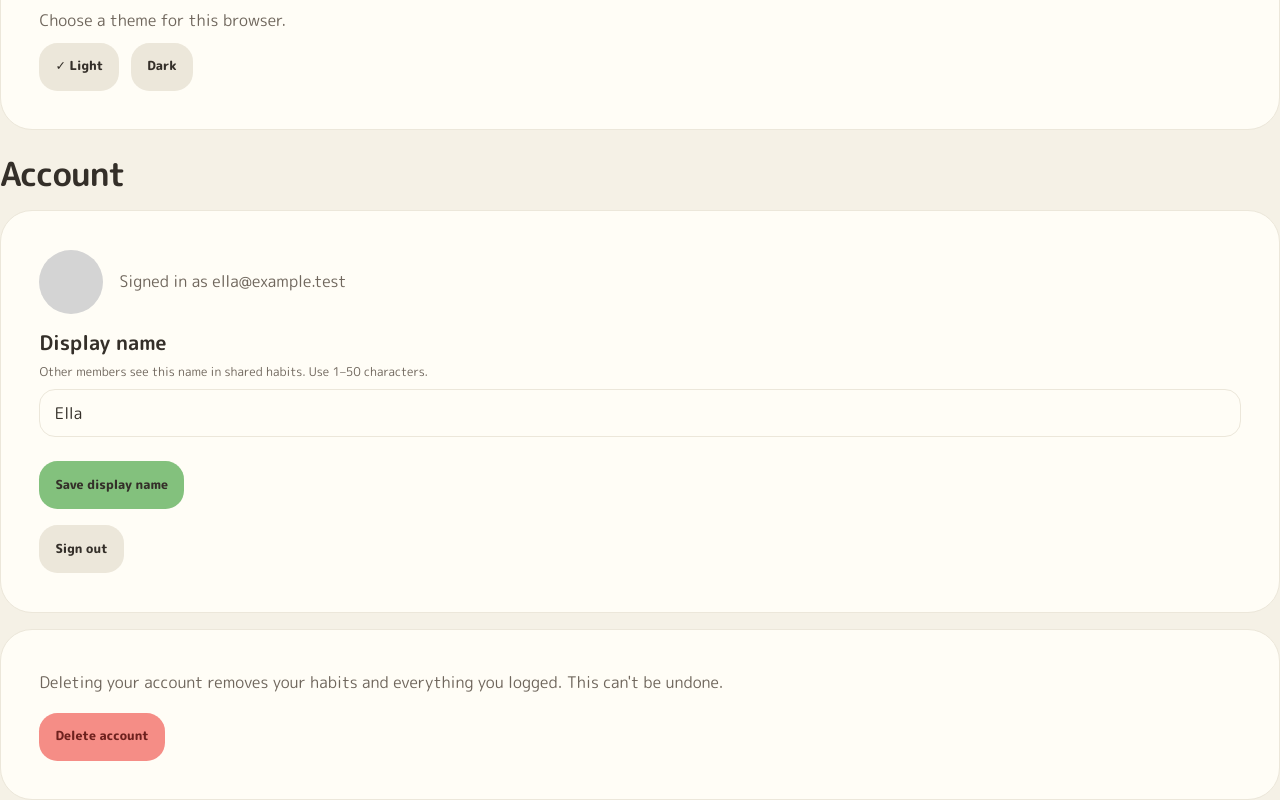
Test: Settings display name (#259) › rejects invalid name  without a request
This screenshot has width=1280, height=800.
(page scrolled)
Clear the field labelled "Display name" at (640, 413), box [39,389,1241,437]
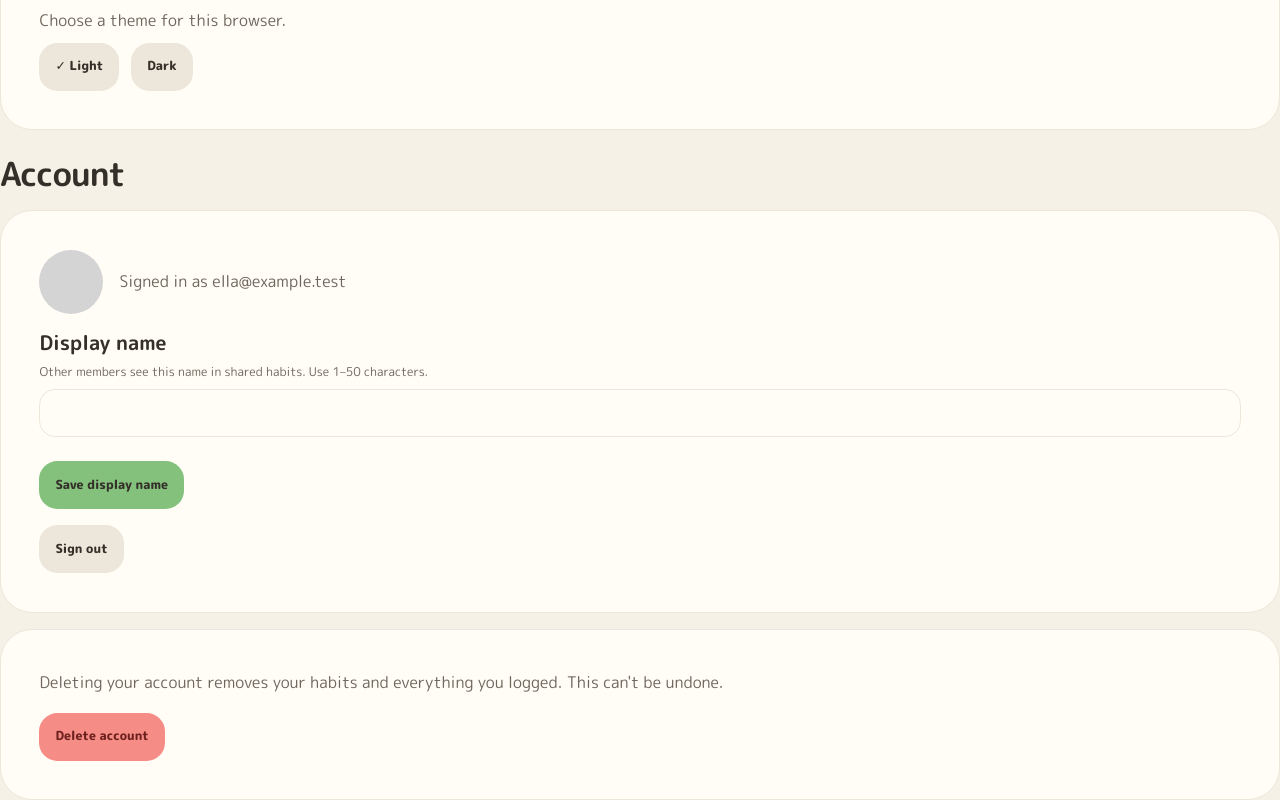
Click the button "Save display name" at (112, 485), box [39,461,184,509]
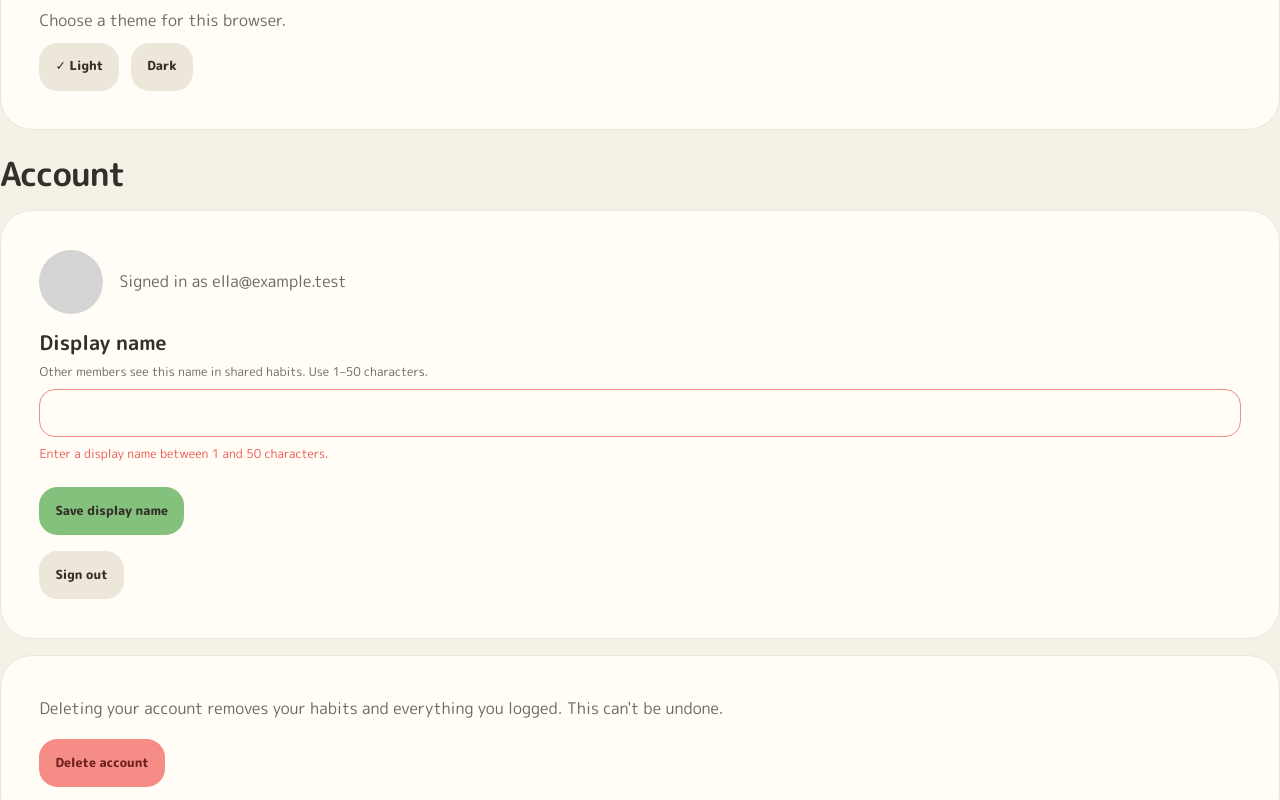
Now the message shows "between 1 and 50 characters", box [39,445,328,462]
